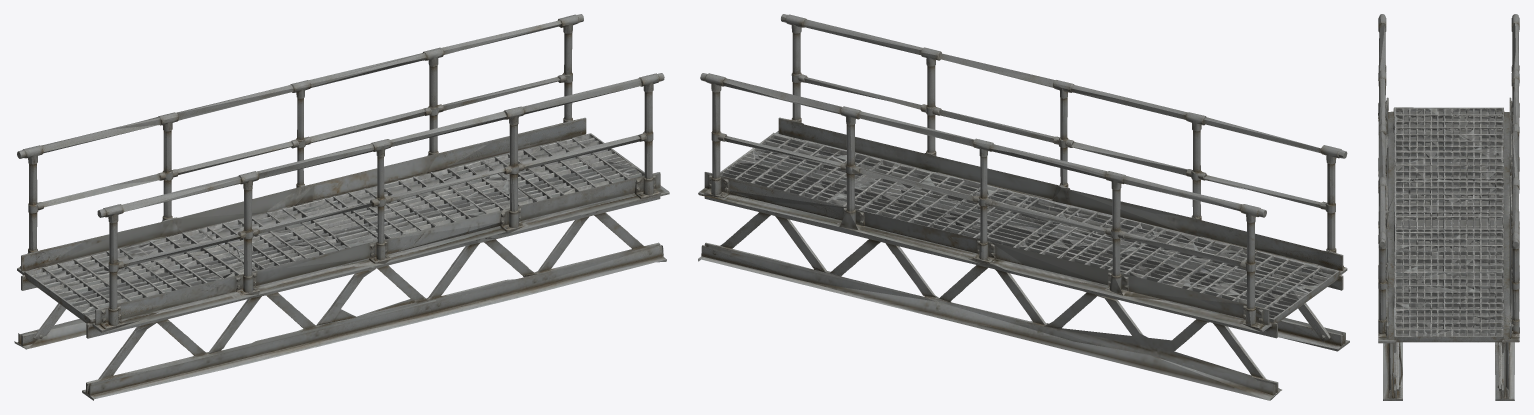
File: lattice_catwalk_section.glb
3 renders of one model, left to right at view 1: azimuth 30°, elevation 25°; view 2: azimuth 150°, elevation 25°; view 3: azimuth 270°, elevation 25°, orthographic. The views are drawn at different scales.
Bounding box in the file's own units: 1.9 × 0.6061 × 0.4919.
Materials: 1 (1 with a texture image).
